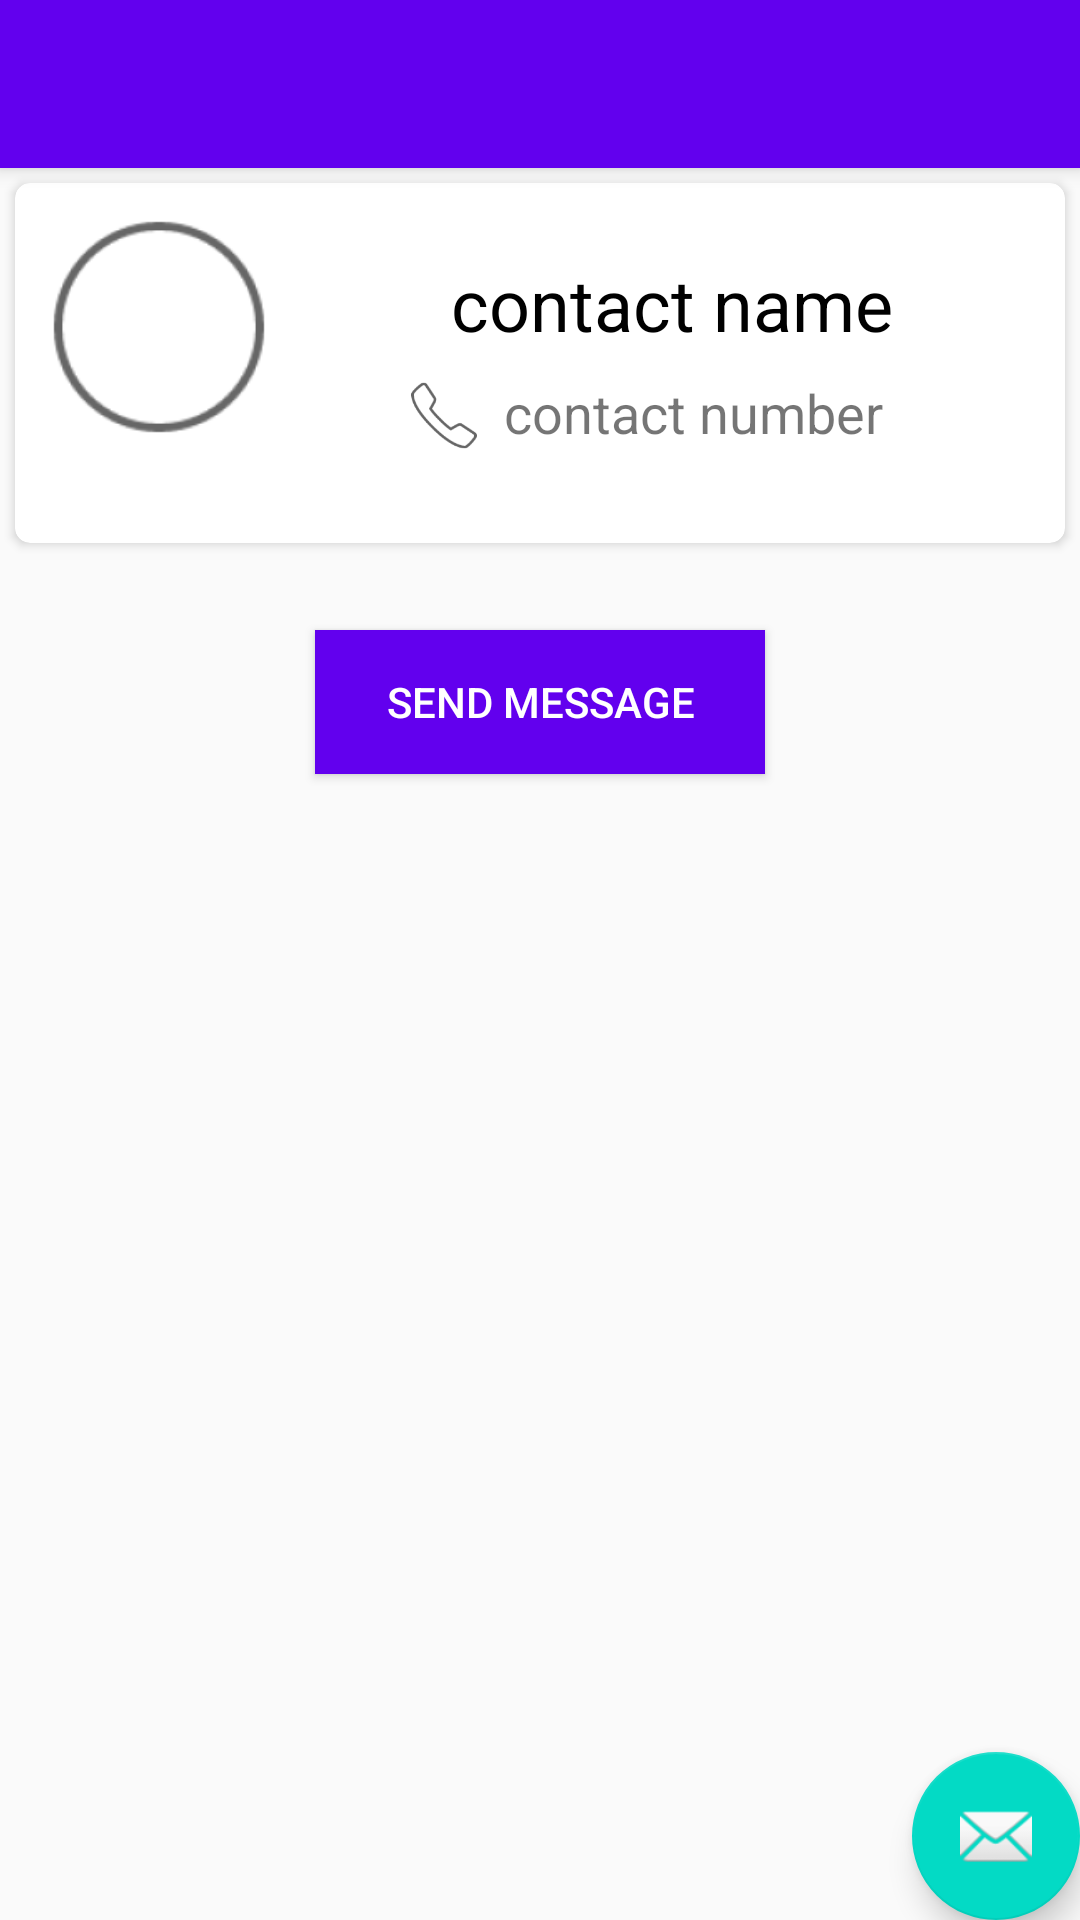

Screen size 1080×1920. Icon name, then its center in pixels as point (x, y):
call: point (444, 415)
email: point (996, 1836)
